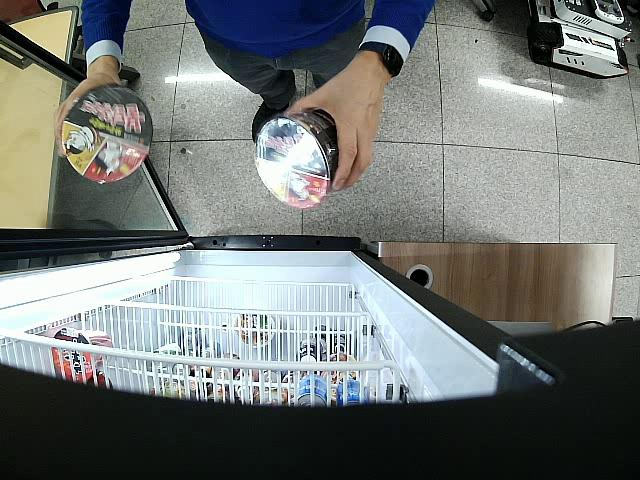00_hand: (286, 71, 381, 190), (54, 74, 124, 157)
07_buldak_L: (62, 85, 152, 183), (254, 108, 339, 208)
